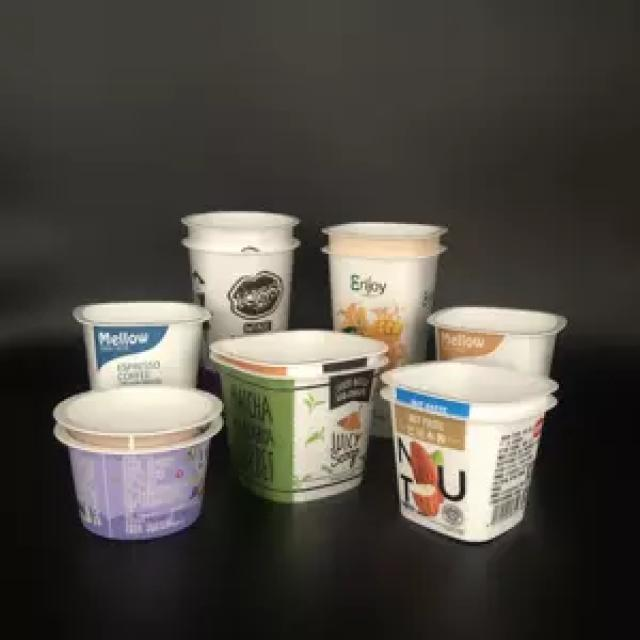plastic: (371, 355, 564, 542), (211, 326, 386, 508), (50, 388, 224, 542), (184, 202, 296, 340), (319, 222, 442, 342), (72, 291, 209, 384), (422, 293, 570, 368)
